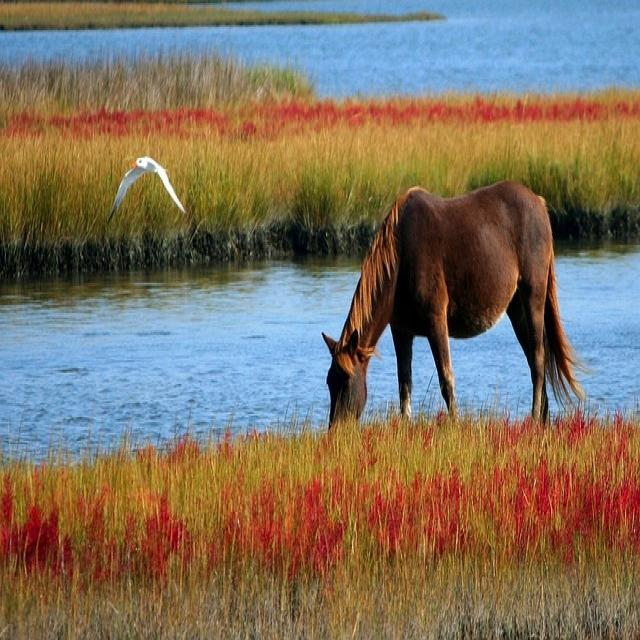Herbivorous: (324, 182, 586, 428), (112, 155, 183, 215)
